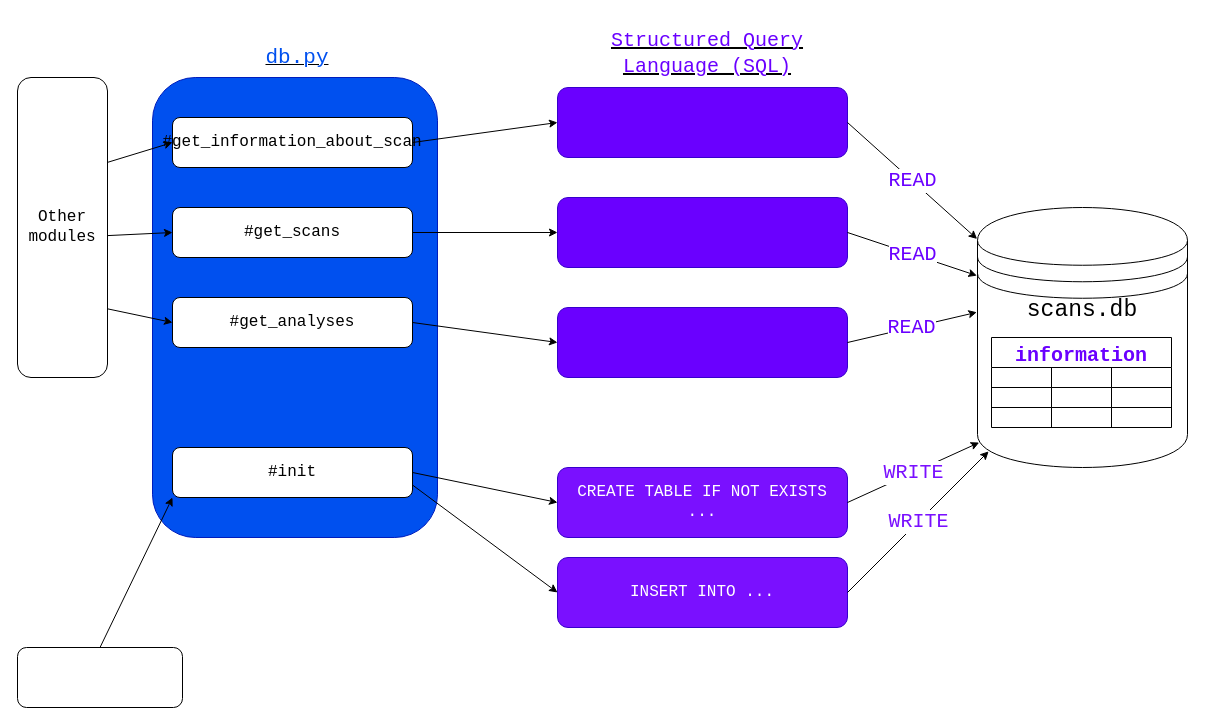
This 1205x725 diagram has some shape labels left out. The centre of each missing label's shape, as x and y in pixels:
"refresh_db.bat" goes at (x=99, y=677).
"SELECT * FROM information WHERE name=?" goes at (x=702, y=122).
"SELECT name FROM information WHERE mode=0" goes at (x=702, y=342).
"SELECT name FROM information WHERE mode=1" goes at (x=702, y=232).
